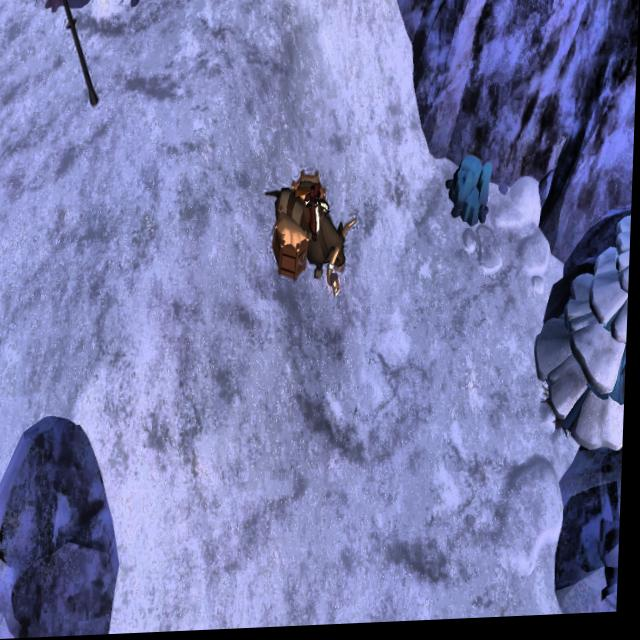rock_t4: (446, 159, 502, 229)
